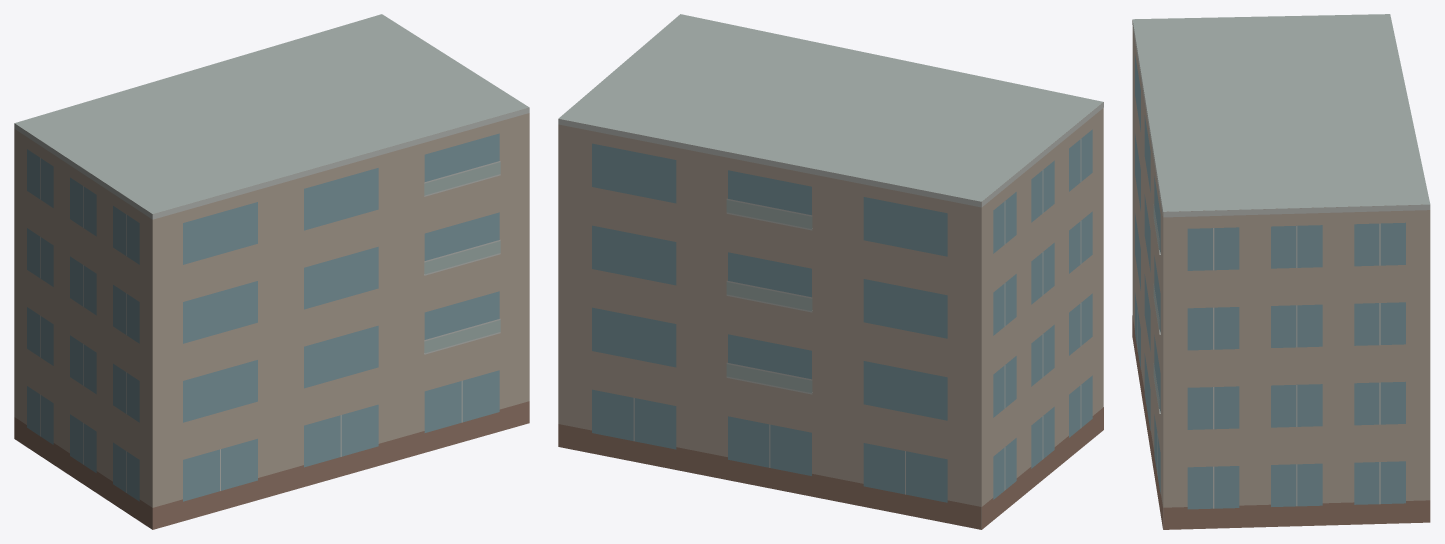
The model's file is survey-upis-32757069.glb.
The picture shows the model from 3 angles, left to right: view 1: azimuth 30°, elevation 25°; view 2: azimuth 150°, elevation 25°; view 3: azimuth 270°, elevation 25°; orthographic projection. The views are drawn at different scales.
Visible parts, largest first — view 1: survey-upis-32757069.tmp; view 2: survey-upis-32757069.tmp; view 3: survey-upis-32757069.tmp.
Part boxes in pixels (x1,y1,x2,y2): survey-upis-32757069.tmp: (14, 14, 529, 529); survey-upis-32757069.tmp: (558, 14, 1103, 529); survey-upis-32757069.tmp: (1132, 14, 1430, 529).
Size of the model in its own units: 18.69 by 14 by 11.89.
